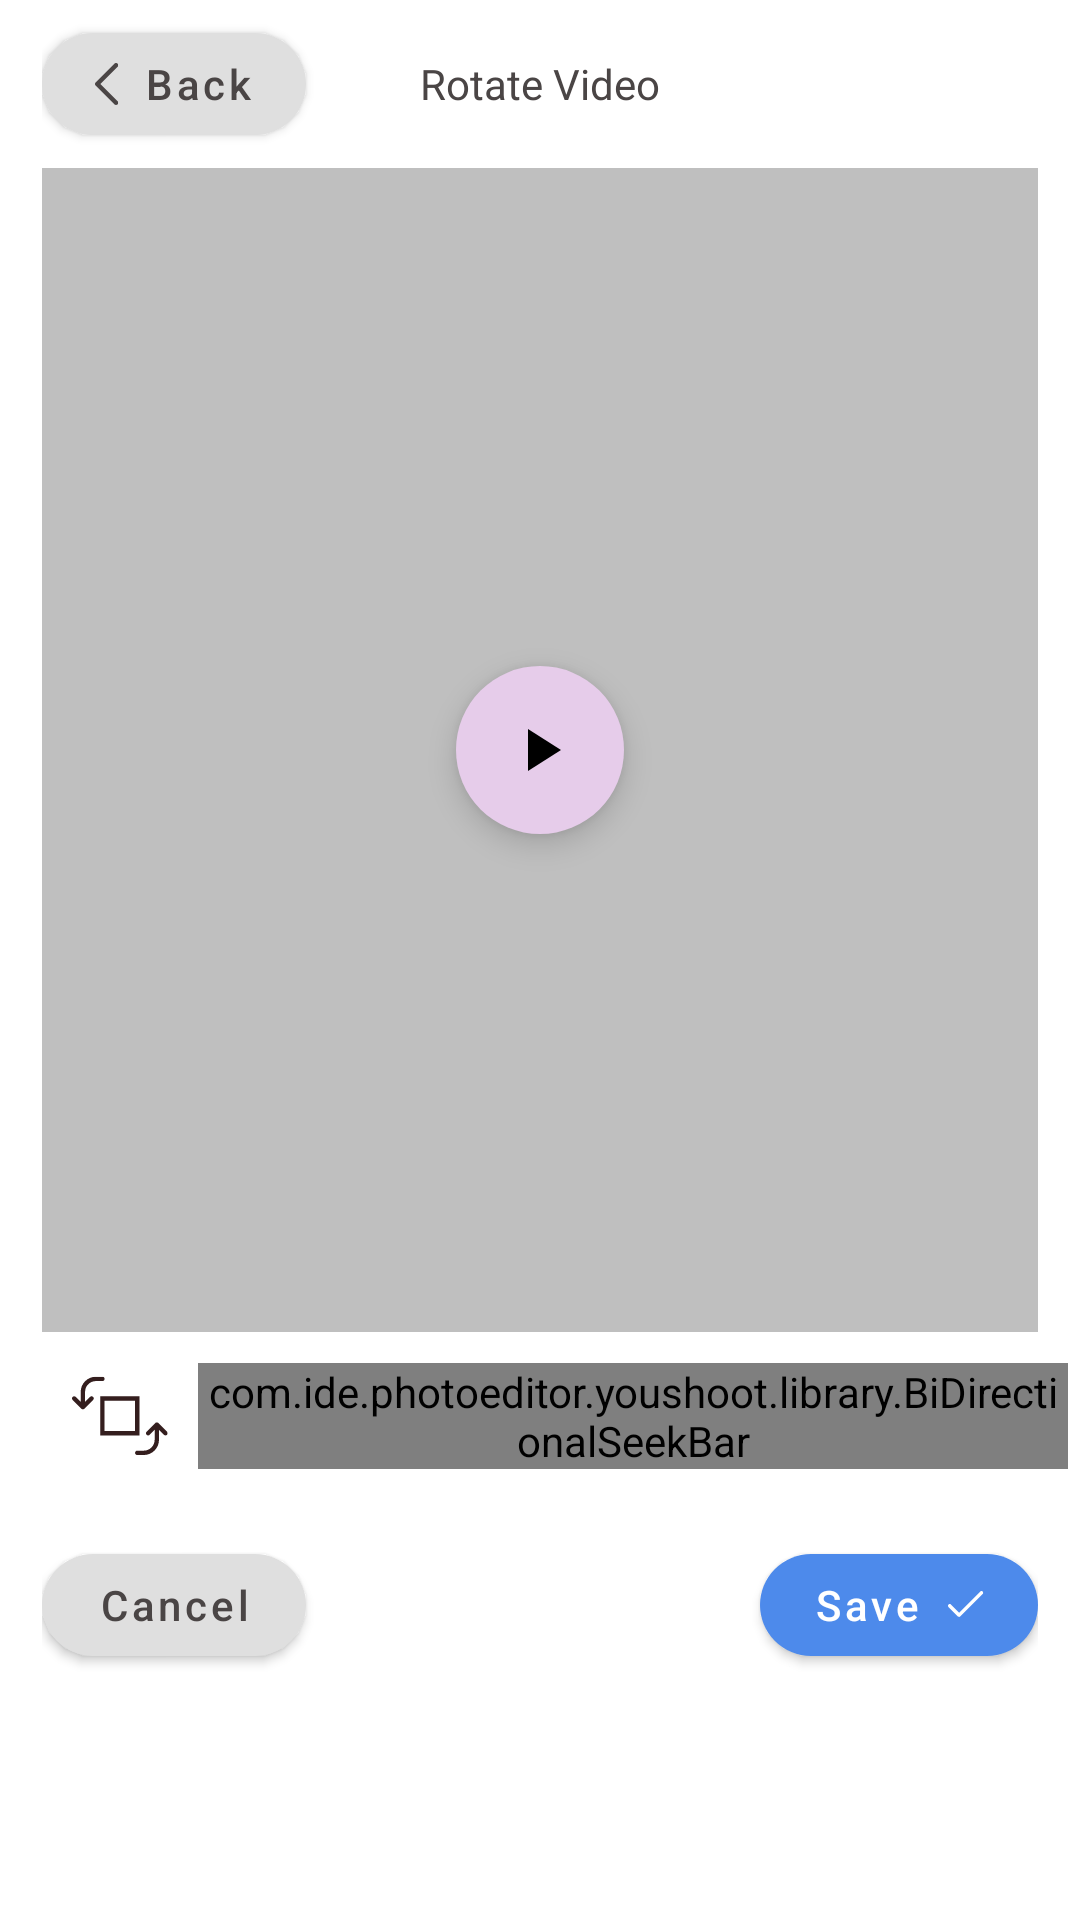

Where icons sit on this 1080px x 1920px app screen, as (left=x1, top=y1, right=x2, bottom=y2):
play arrow: (left=456, top=666, right=624, bottom=834)
rotate: (left=72, top=1377, right=168, bottom=1455)
